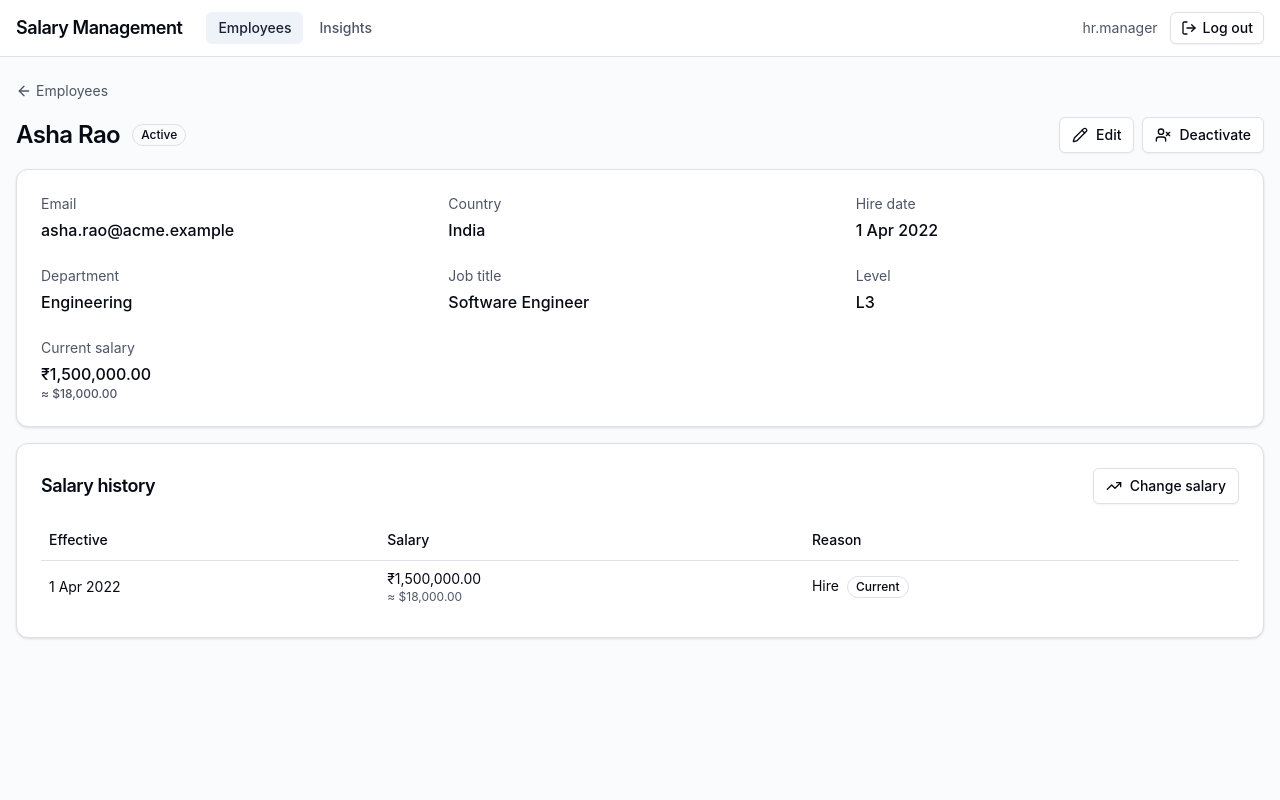
Scenario: deactivating and reactivating › asks for confirmation before deactivating, and does nothing if cancelled
Check: the heading "Asha Rao" is shown, box left=16, top=119, right=120, bottom=151
Click the button "Deactivate" at (1203, 135), box left=1142, top=117, right=1264, bottom=153
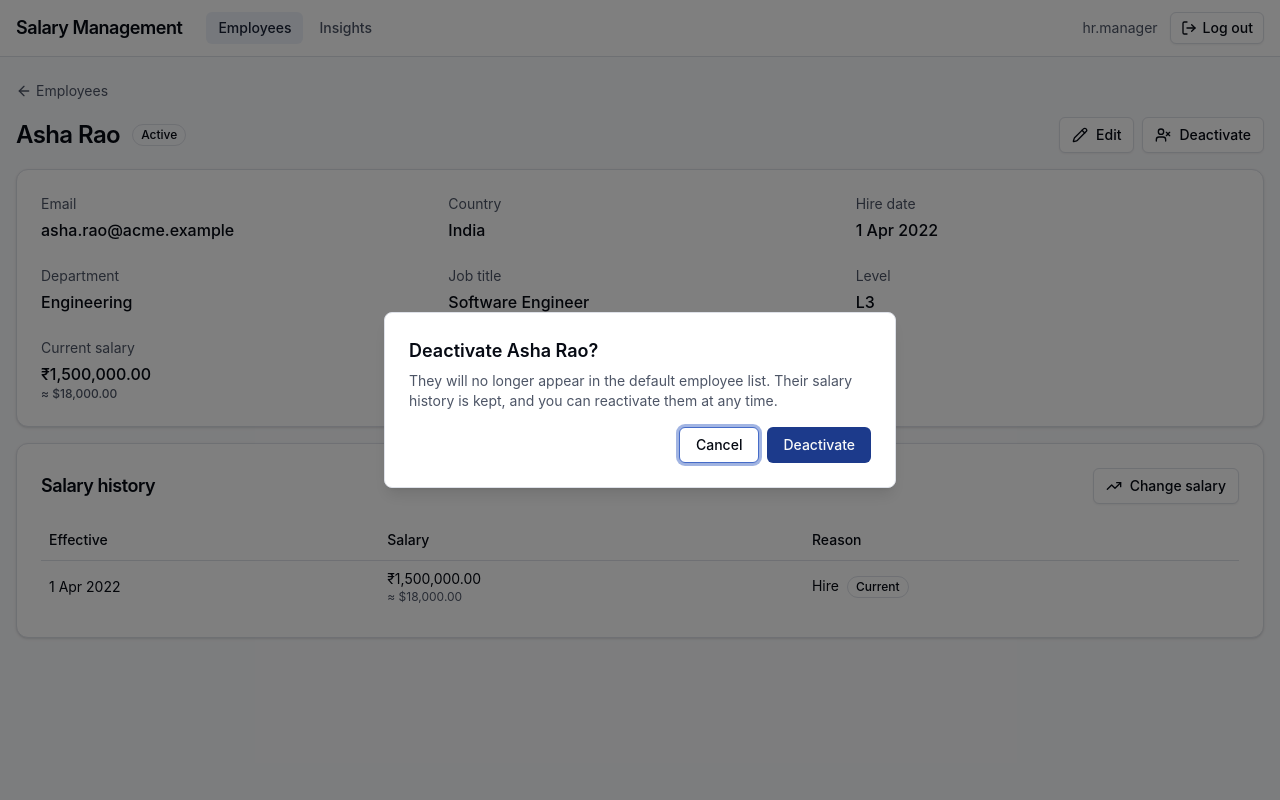
Check: the dialog shows "Deactivate Asha Rao?", box left=409, top=340, right=598, bottom=361
Check: the dialog shows "salary history is kept", box left=409, top=372, right=852, bottom=409
Click the button "Cancel" at (719, 445), box left=679, top=427, right=760, bottom=463
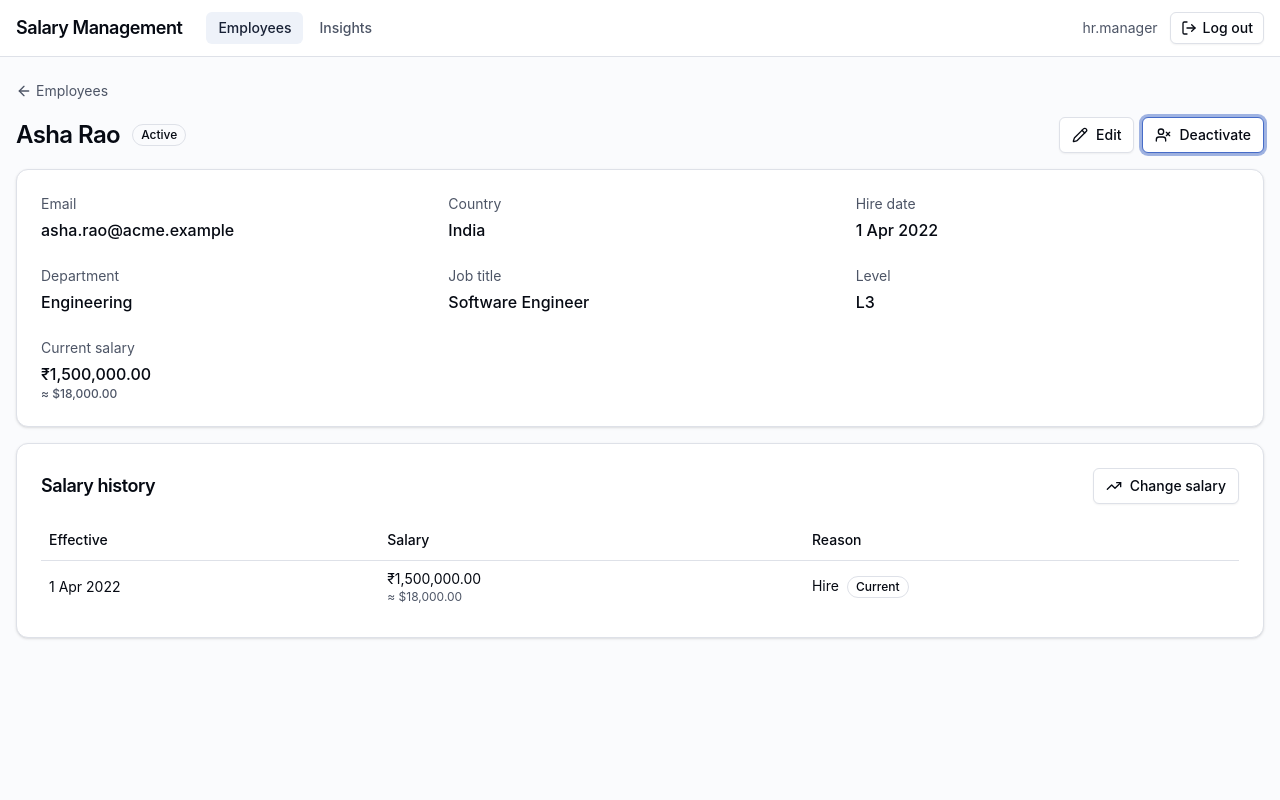
Check: the dialog is gone
